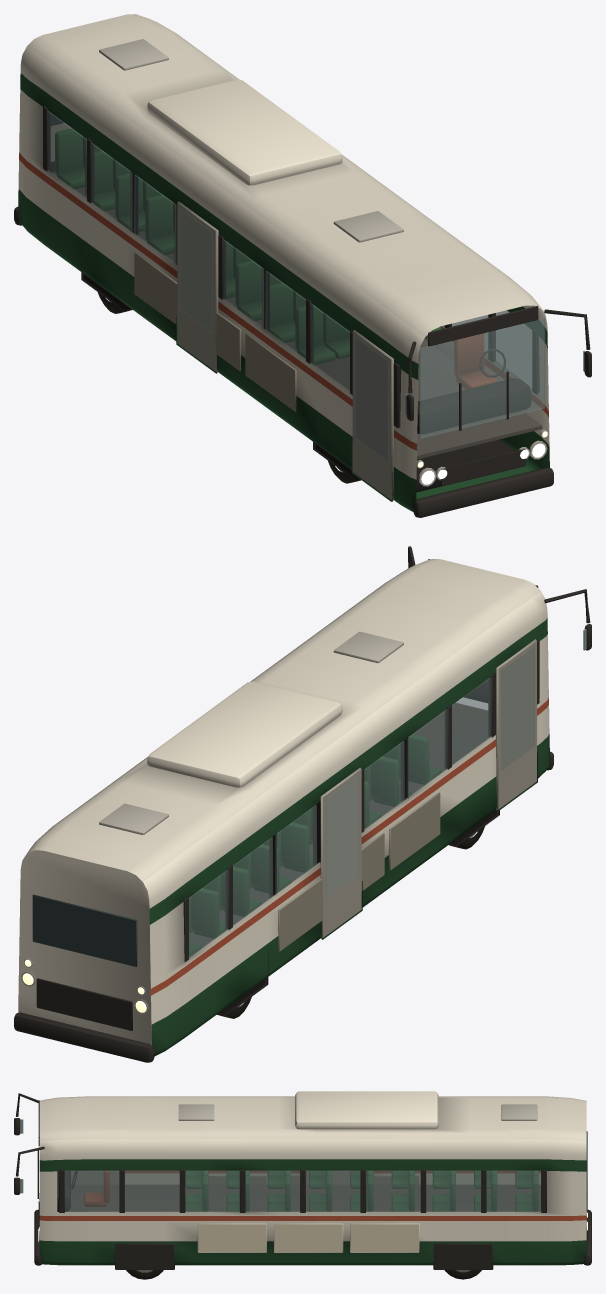
File: coach_bus.glb
3 views of the same model, one above another, from view 1: azimuth 30°, elevation 25°; view 2: azimuth 150°, elevation 25°; view 3: azimuth 270°, elevation 25° (orthographic). The views are drawn at different scales.
Visible parts, largest first — view 1: coach_bus_mesh, PART_door_front_mesh, PART_door_mid_mesh; view 2: coach_bus_mesh, PART_door_mid_mesh, PART_door_front_mesh; view 3: coach_bus_mesh, PART_door_front_mesh, PART_door_mid_mesh, PART_wheel_fl_mesh.
Part boxes in pixels (box(x1,y1,x2,y2)): coach_bus_mesh: box(14, 14, 591, 517); PART_door_front_mesh: box(351, 330, 393, 501); PART_door_mid_mesh: box(176, 201, 218, 373); coach_bus_mesh: box(14, 546, 591, 1062); PART_door_mid_mesh: box(320, 768, 362, 939); PART_door_front_mesh: box(495, 639, 537, 811); coach_bus_mesh: box(14, 1091, 591, 1269); PART_door_front_mesh: box(71, 1171, 118, 1184); PART_door_mid_mesh: box(306, 1171, 349, 1184); PART_wheel_fl_mesh: box(126, 1270, 163, 1279).
Bounding box in the file's own units: 3.23 × 3.75 × 12.89.
